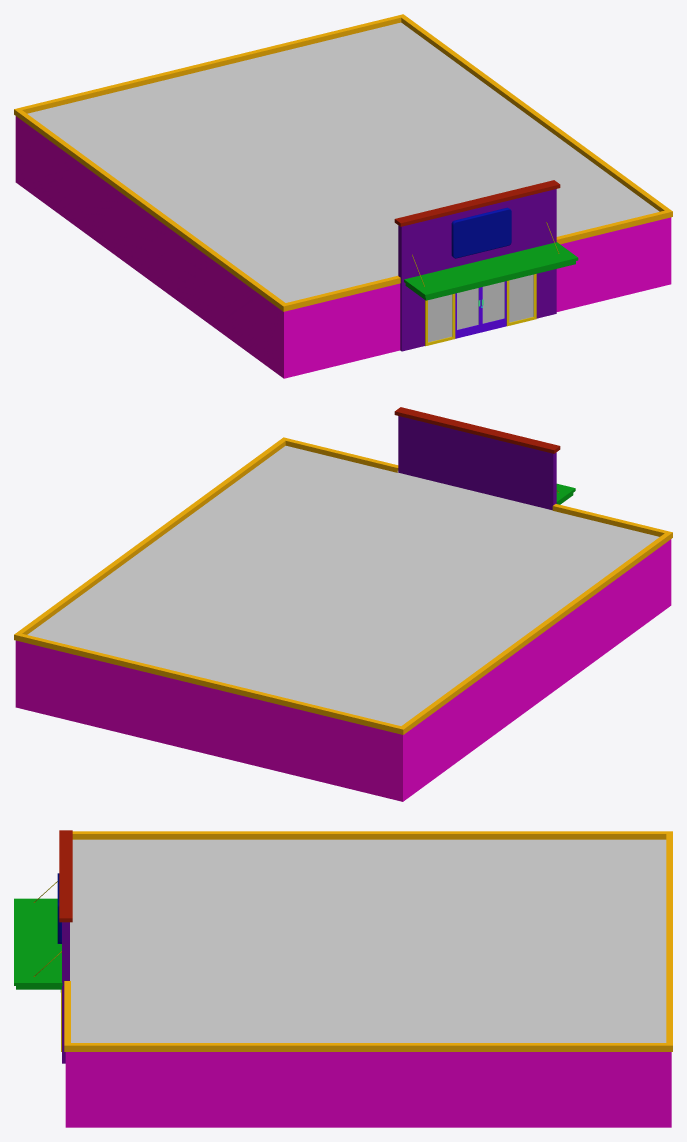
The model's file is ApocalypticPharmacy01.fbx.
The picture shows the model from 3 angles, top to bottom: view 1: azimuth 30°, elevation 25°; view 2: azimuth 150°, elevation 25°; view 3: azimuth 270°, elevation 25°; orthographic projection. The views are drawn at different scales.
Parts seen in each view (by area): view 1: ApocalypticPharmacy01_Roof, ApocalypticPharmacy01_WallsExt, ApocalypticPharmacy01_Front, ApocalypticPharmacy01_FrontElements, ApocalypticPharmacy01_Door01FrameGlassR, ApocalypticPharmacy01_Door01FrameGlassL, ApocalypticPharmacy01_Door01Frame, ApocalypticPharmacy01_Door01DoorRGlass, ApocalypticPharmacy01_Door01DoorLGlass; view 2: ApocalypticPharmacy01_Roof, ApocalypticPharmacy01_WallsExt, ApocalypticPharmacy01_Front; view 3: ApocalypticPharmacy01_Roof, ApocalypticPharmacy01_WallsExt, ApocalypticPharmacy01_FrontElements, ApocalypticPharmacy01_Front.
Boxes of the visible parts, bbox=[...] form: ApocalypticPharmacy01_Roof: bbox=[27, 22, 659, 302]; ApocalypticPharmacy01_WallsExt: bbox=[14, 14, 672, 378]; ApocalypticPharmacy01_Front: bbox=[394, 180, 560, 351]; ApocalypticPharmacy01_FrontElements: bbox=[404, 207, 578, 300]; ApocalypticPharmacy01_Door01FrameGlassR: bbox=[509, 274, 533, 322]; ApocalypticPharmacy01_Door01FrameGlassL: bbox=[428, 294, 452, 342]; ApocalypticPharmacy01_Door01Frame: bbox=[425, 274, 536, 346]; ApocalypticPharmacy01_Door01DoorRGlass: bbox=[482, 281, 504, 323]; ApocalypticPharmacy01_Door01DoorLGlass: bbox=[457, 288, 478, 329]; ApocalypticPharmacy01_Roof: bbox=[27, 446, 659, 725]; ApocalypticPharmacy01_WallsExt: bbox=[14, 437, 672, 801]; ApocalypticPharmacy01_Front: bbox=[394, 407, 560, 510]; ApocalypticPharmacy01_Roof: bbox=[70, 839, 666, 1042]; ApocalypticPharmacy01_WallsExt: bbox=[64, 831, 672, 1127]; ApocalypticPharmacy01_FrontElements: bbox=[14, 873, 62, 989]; ApocalypticPharmacy01_Front: bbox=[59, 830, 72, 1063].
Bounding box in the file's own units: 15.08 × 4.8 × 19.57.
